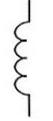inductor: (4, 13, 39, 104)
